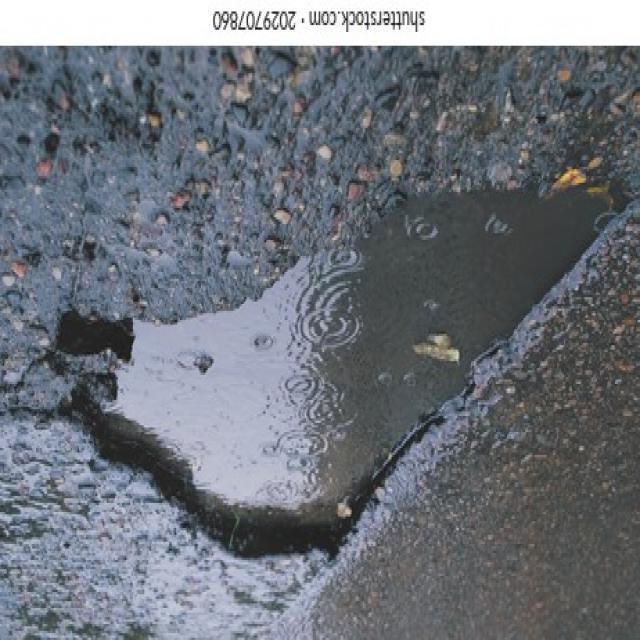pothole: (0, 46, 640, 563)
